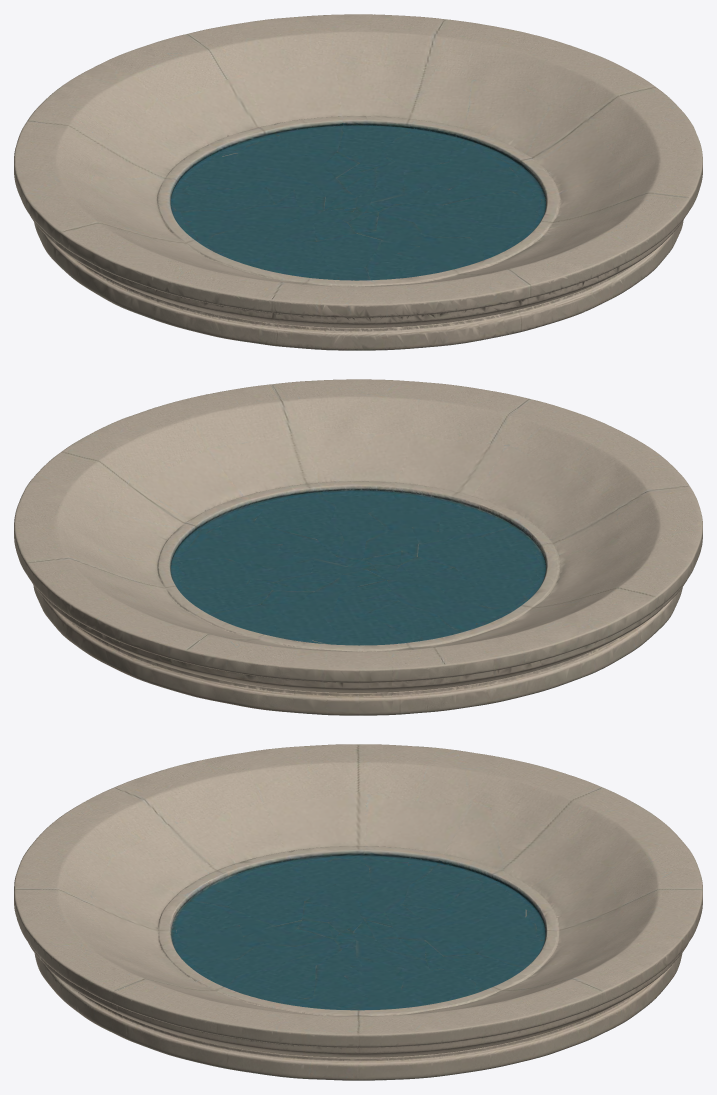
File: fountain.glb
3 views of the same model, one above another, from view 1: azimuth 30°, elevation 25°; view 2: azimuth 150°, elevation 25°; view 3: azimuth 270°, elevation 25° (orthographic).
Visible parts, largest first — view 1: mesh_node; view 2: mesh_node; view 3: mesh_node.
Boxes of the visible parts, x1=… form: mesh_node: x1=14, y1=14, x2=702, y2=350; mesh_node: x1=14, y1=379, x2=702, y2=715; mesh_node: x1=14, y1=744, x2=702, y2=1080.
Bounding box in the file's own units: 1.9 × 0.1676 × 1.9.
Materials: 1 (1 with a texture image).
